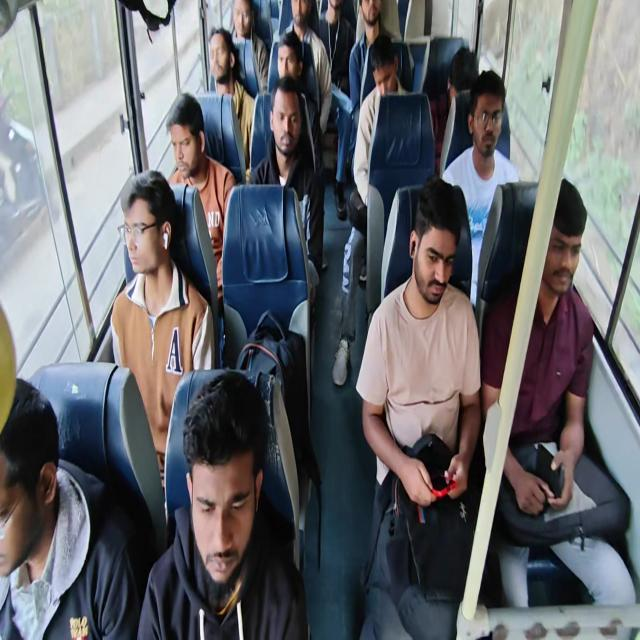person: (481, 177, 636, 611), (355, 175, 483, 638), (136, 369, 310, 639), (0, 376, 140, 639), (110, 169, 215, 502), (332, 35, 411, 386), (441, 69, 520, 308), (248, 75, 325, 289), (165, 92, 237, 309), (348, 1, 411, 200), (318, 0, 355, 219), (207, 26, 255, 172), (280, 0, 332, 133), (274, 31, 322, 172), (348, 0, 390, 110), (229, 0, 269, 97), (318, 0, 355, 94)
